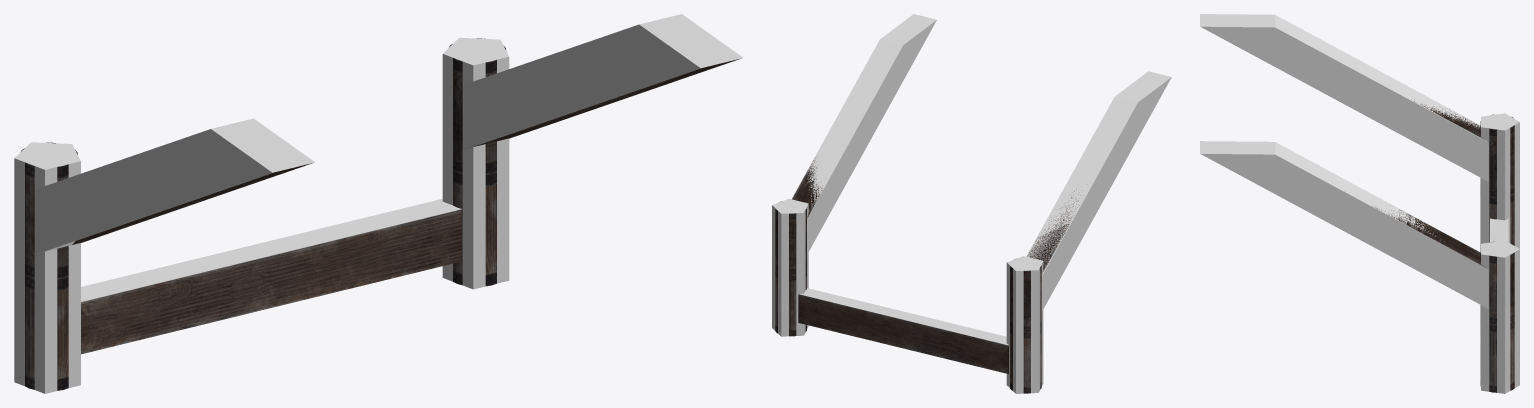
File: JD_Bridge_A_BaseEnd_2x2x1_01.fbx
3 renders of one model, left to right at view 1: azimuth 30°, elevation 25°; view 2: azimuth 150°, elevation 25°; view 3: azimuth 270°, elevation 25°, orthographic. The views are drawn at different scales.
Visible parts, largest first — view 1: C_JD_Bridge_A_BaseEnd_2x2x1_01, JD_Bridge_A_BaseEnd_2x2x1_01; view 2: C_JD_Bridge_A_BaseEnd_2x2x1_01, JD_Bridge_A_BaseEnd_2x2x1_01; view 3: C_JD_Bridge_A_BaseEnd_2x2x1_01, JD_Bridge_A_BaseEnd_2x2x1_01.
Part boxes in pixels (<box>): C_JD_Bridge_A_BaseEnd_2x2x1_01: <box>14,14,743,393</box>; JD_Bridge_A_BaseEnd_2x2x1_01: <box>21,38,740,390</box>; C_JD_Bridge_A_BaseEnd_2x2x1_01: <box>772,14,1171,393</box>; JD_Bridge_A_BaseEnd_2x2x1_01: <box>775,158,1083,393</box>; C_JD_Bridge_A_BaseEnd_2x2x1_01: <box>1200,14,1519,393</box>; JD_Bridge_A_BaseEnd_2x2x1_01: <box>1375,101,1514,392</box>.
Bounding box in the file's own units: 4.54 × 3.49 × 4.25.
